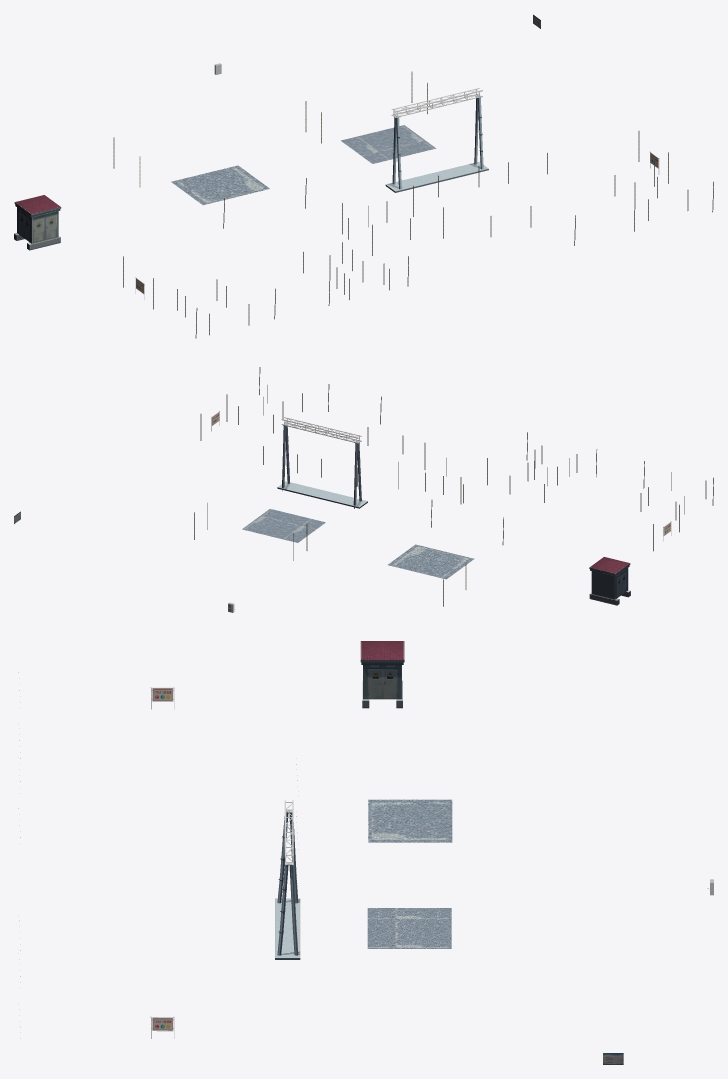
3 renders of one model, top to bottom at view 1: azimuth 30°, elevation 25°; view 2: azimuth 150°, elevation 25°; view 3: azimuth 270°, elevation 25°, orthographic. The views are drawn at different scales.
Visible parts, largest first — view 1: 11-鹅卵石, 11-材质.26, 11-a1.2, 11-鹅卵石2, 11-导电警戒标识, 11-材质.17; view 2: 11-鹅卵石, 11-导电警戒标识, 11-材质.26, 11-鹅卵石2, 11-a1.2, 11-材质.17; view 3: 11-鹅卵石, 11-鹅卵石2, 11-材质.26, 11-a1.2.
Boxes of the visible parts, x1,y1,x2,y2 form: 11-鹅卵石: [171, 165, 269, 205]; 11-材质.26: [14, 195, 61, 250]; 11-a1.2: [385, 95, 488, 192]; 11-鹅卵石2: [341, 125, 436, 163]; 11-导电警戒标识: [113, 71, 713, 338]; 11-材质.17: [391, 88, 482, 117]; 11-鹅卵石: [388, 544, 474, 579]; 11-导电警戒标识: [194, 367, 713, 606]; 11-材质.26: [589, 557, 630, 605]; 11-鹅卵石2: [242, 509, 325, 542]; 11-a1.2: [277, 423, 367, 508]; 11-材质.17: [281, 417, 361, 443]; 11-鹅卵石: [368, 799, 452, 842]; 11-鹅卵石2: [367, 908, 451, 948]; 11-材质.26: [360, 641, 404, 708]; 11-a1.2: [275, 810, 300, 959].
Bounding box in the file's own units: 55.75 × 7.3 × 42.72.
14 materials, 8 textured.
